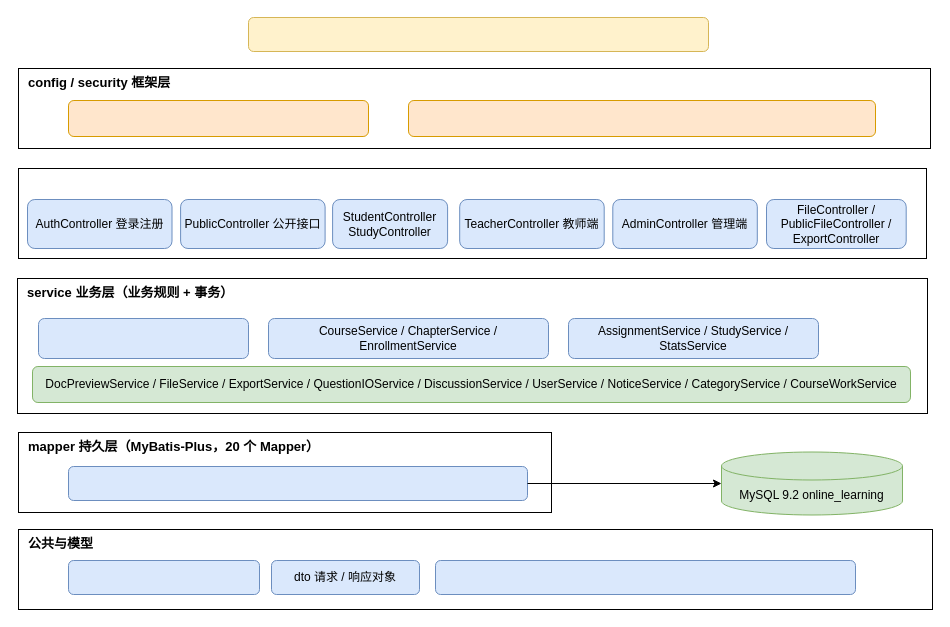
Some shapes in this 950 by 627 pixel diagram are drawn without their labels. The box of each missing label's shape, as (x1, y1, x2, y2) in pixels:
BaseMapper 通用 CRUD + LambdaQueryWrapper 条件构造 + 分页插件: (68, 466, 528, 500)
common：Result 统一响应 / BusinessException / GlobalExceptionHandler: (434, 560, 856, 594)
controller 控制层（按访问身份分组）: (18, 168, 926, 258)
entity 实体（20 张表映射）: (68, 560, 260, 594)
ExamService 判分组卷批阅: (38, 318, 248, 358)
HTTP 请求（Authorization: Bearer <JWT>）: (248, 16, 708, 52)
JwtInterceptor：解析 token → UserContext → 校验 @RequireRole: (408, 100, 876, 136)
WebConfig：跨域 + 拦截器注册: (68, 100, 368, 136)
